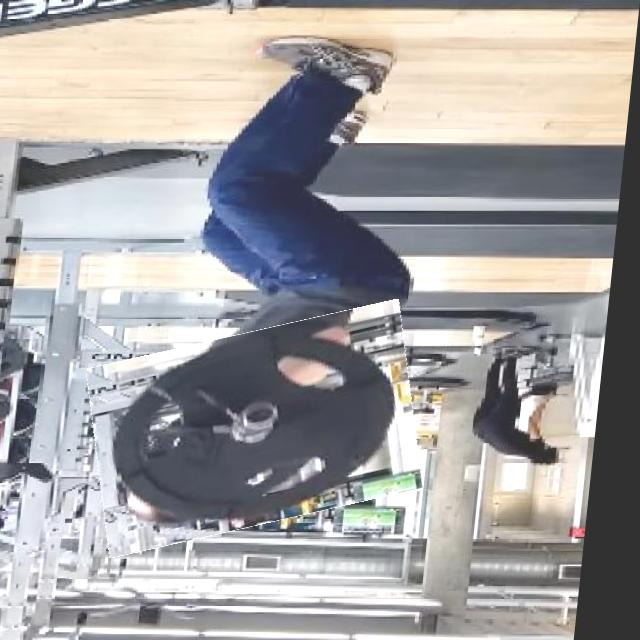barbell: (90, 316, 439, 543)
